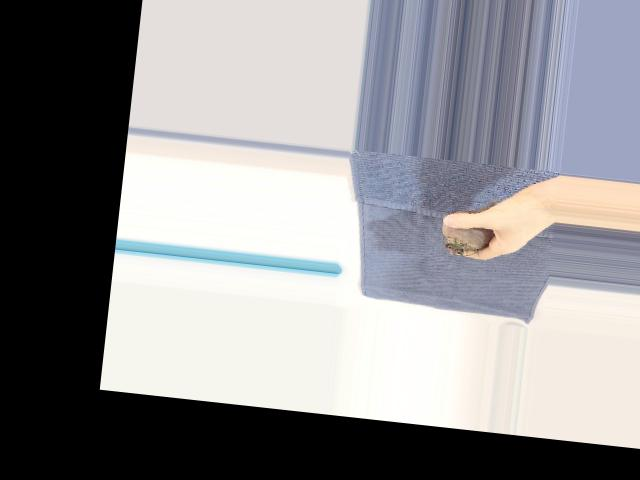beet: (438, 191, 497, 258)
